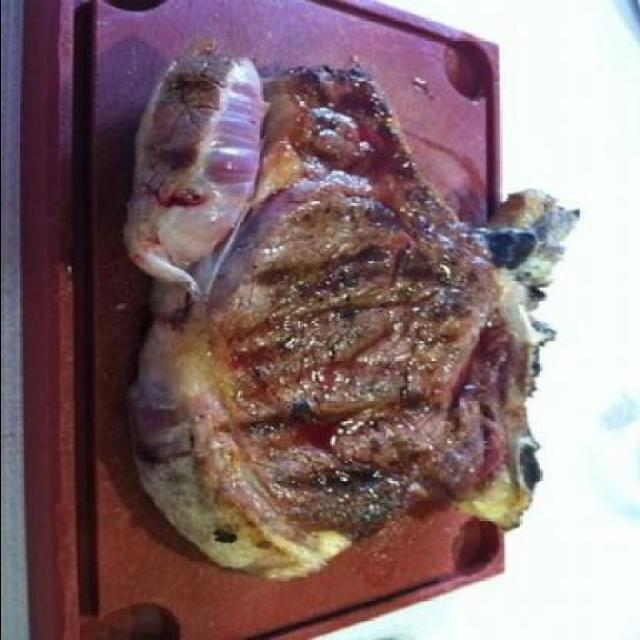Steak: (90, 76, 558, 580)
